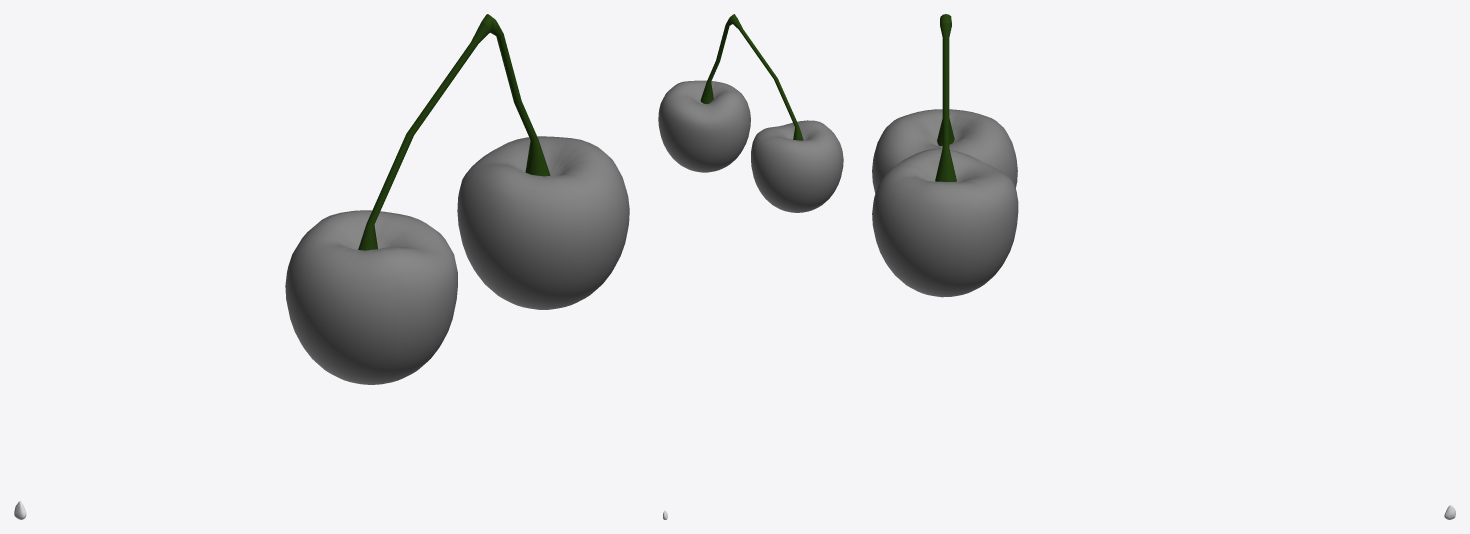
File: uploads_files_301749_fbx.FBX
The picture shows the model from 3 angles, left to right: view 1: azimuth 30°, elevation 25°; view 2: azimuth 150°, elevation 25°; view 3: azimuth 270°, elevation 25°; orthographic projection. The views are drawn at different scales.
Parts seen in each view (by area): view 1: Sphere02_ncl1_1, Sphere02, Line01; view 2: Sphere02_ncl1_1, Sphere02, Line01; view 3: Sphere02, Sphere02_ncl1_1, Line01.
Part boxes in pixels (x1=…): Sphere02_ncl1_1: x1=285, y1=210, x2=457, y2=384; Sphere02: x1=457, y1=136, x2=629, y2=309; Line01: x1=358, y1=14, x2=550, y2=250; Sphere02_ncl1_1: x1=751, y1=120, x2=843, y2=212; Sphere02: x1=658, y1=80, x2=750, y2=172; Line01: x1=700, y1=14, x2=803, y2=140; Sphere02: x1=872, y1=148, x2=1018, y2=297; Sphere02_ncl1_1: x1=872, y1=109, x2=1017, y2=193; Line01: x1=935, y1=14, x2=956, y2=181.
Size of the model in its own units: 62.84 by 127 by 117.
